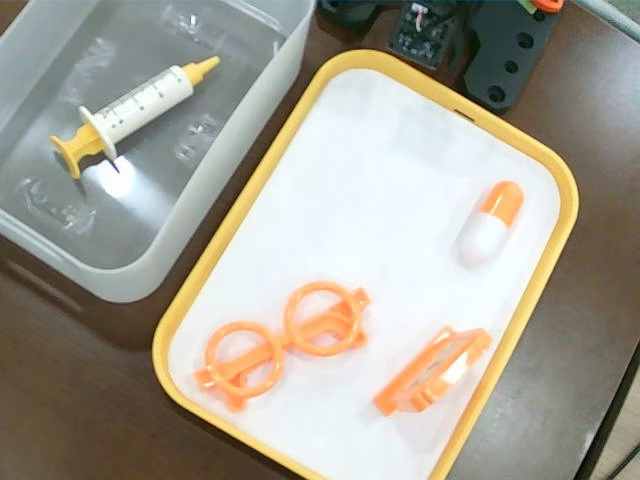pill: (458, 181, 525, 267)
syringe: (49, 56, 221, 178)
